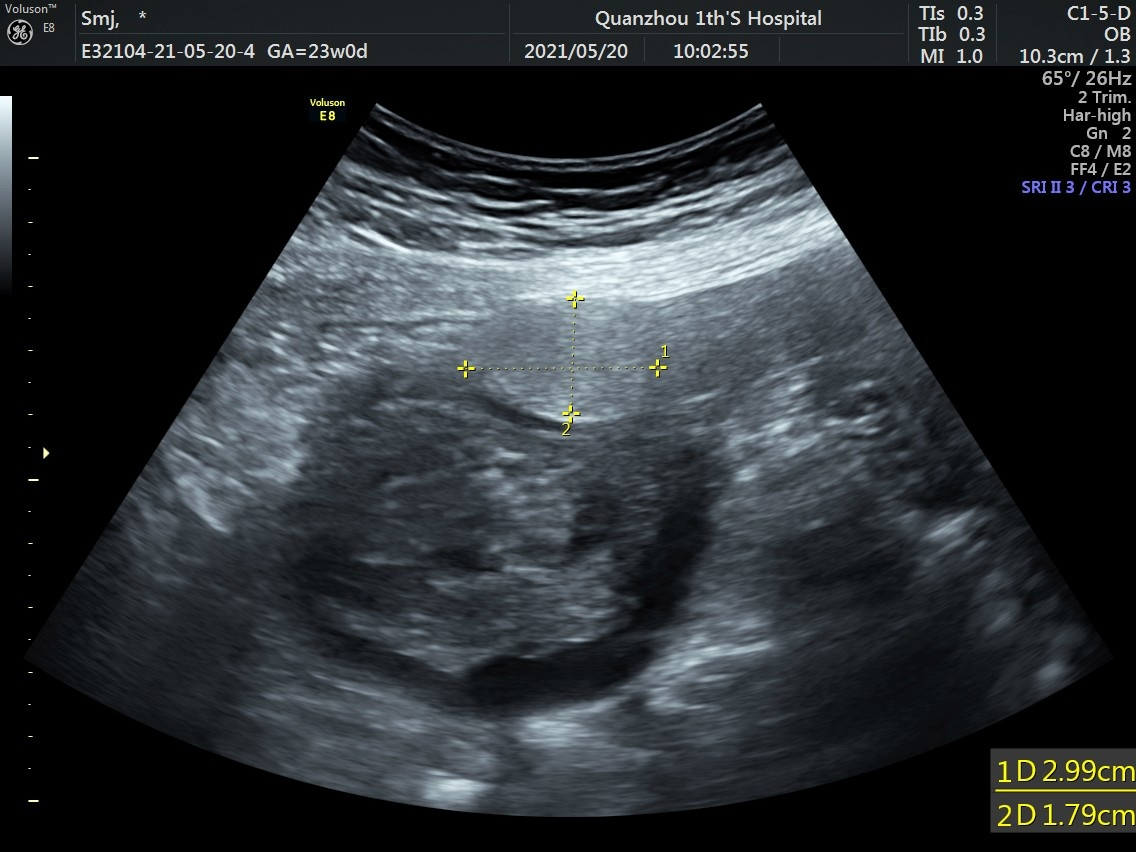肌瘤: (464, 301, 665, 413)
